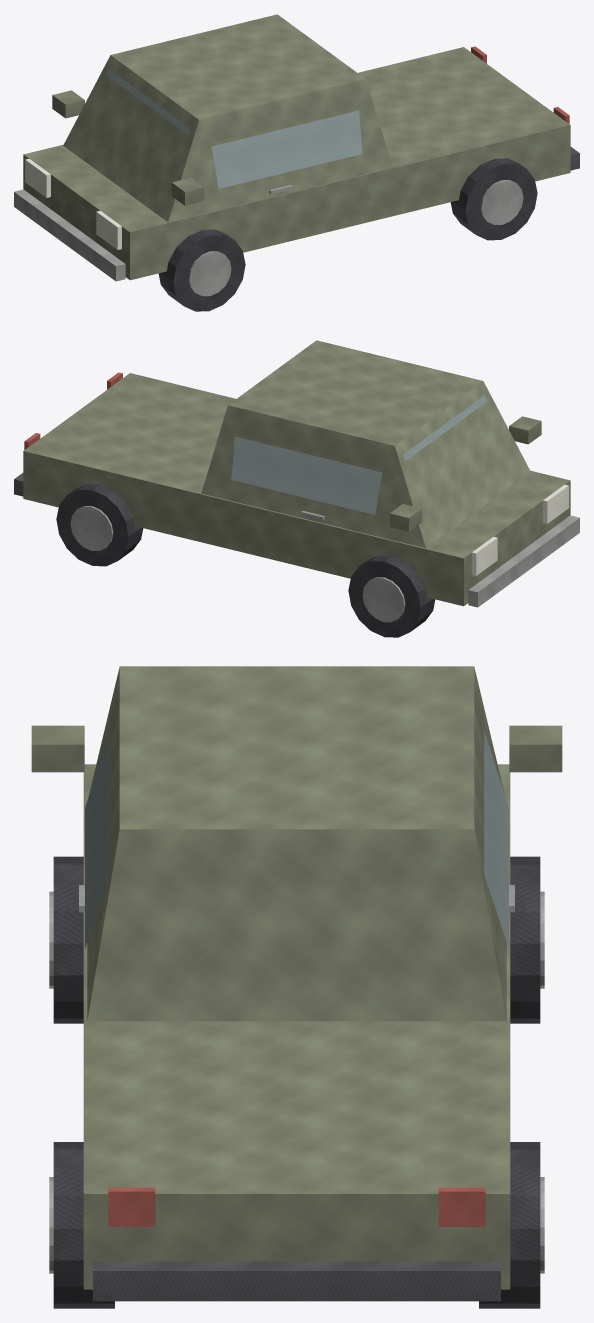
The model's file is vehicle_compact.glb.
The picture shows the model from 3 angles, top to bottom: view 1: azimuth 30°, elevation 25°; view 2: azimuth 150°, elevation 25°; view 3: azimuth 270°, elevation 25°; orthographic projection. The views are drawn at different scales.
Parts seen in each view (by area): view 1: vehicle_compact; view 2: vehicle_compact; view 3: vehicle_compact.
Boxes of the visible parts, x1,y1,x2,y2 form: vehicle_compact: (14,14,579,311); vehicle_compact: (14,340,579,637); vehicle_compact: (31,666,562,1308).
Bounding box in the file's own units: 3.85 × 1.41 × 1.91.
Materials: 7 (7 with a texture image).
